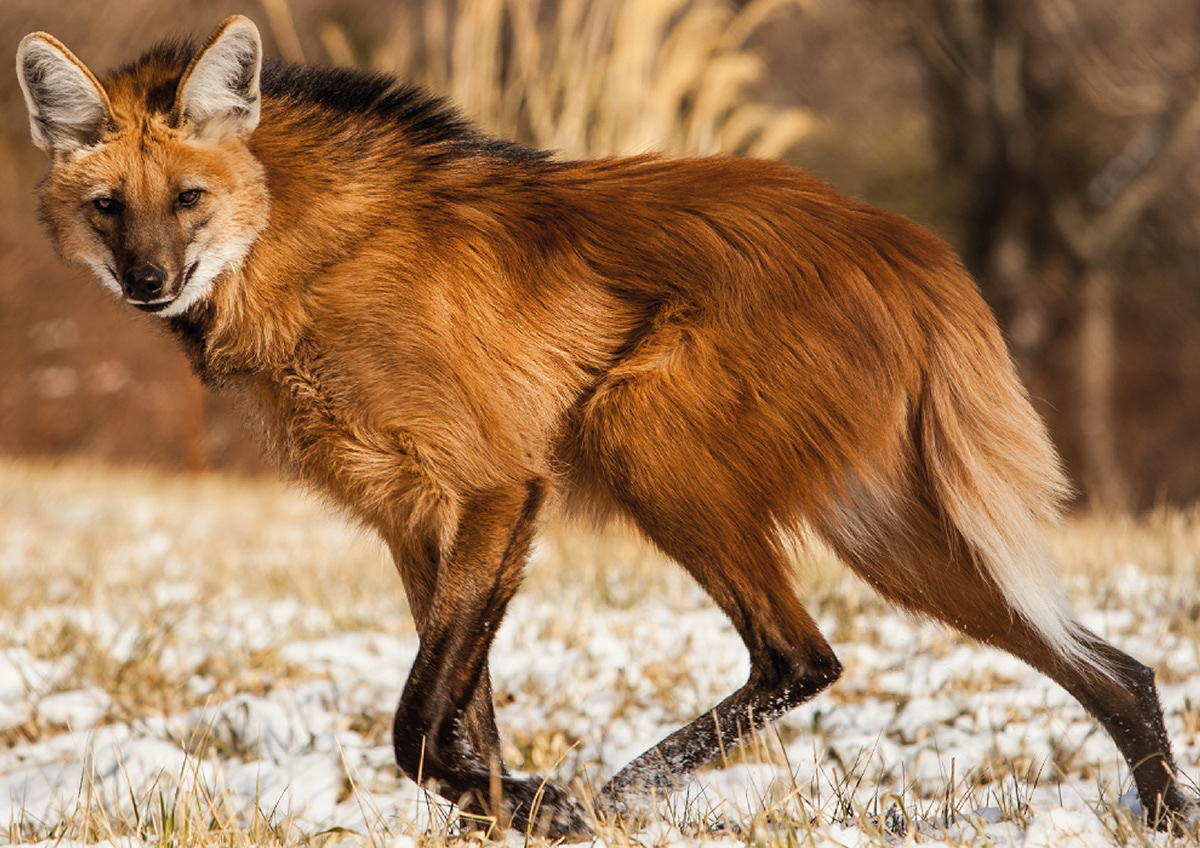LoboGuara: (11, 12, 1190, 823)
